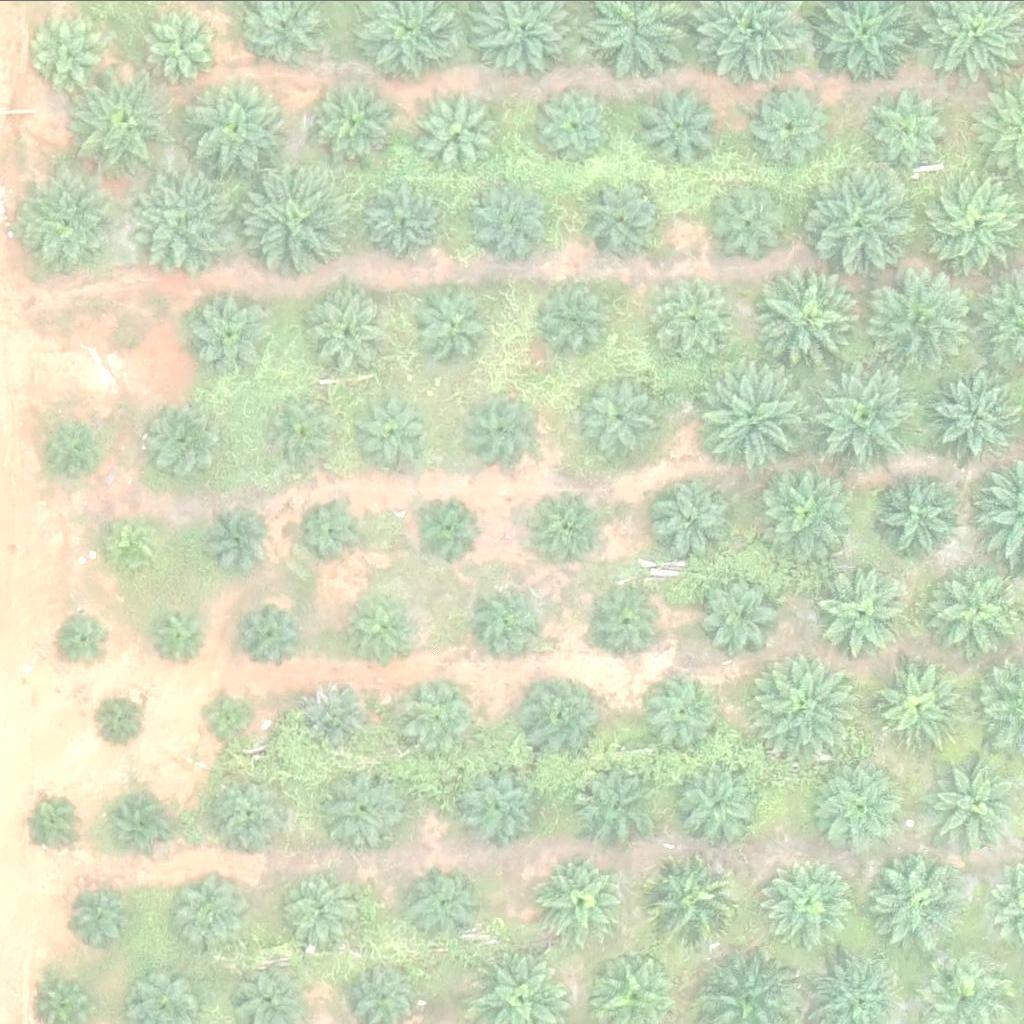Kelapa_Sawit: (131, 158, 245, 271), (238, 152, 352, 265), (863, 262, 976, 375), (696, 361, 809, 474), (809, 361, 922, 474), (803, 165, 916, 277), (756, 264, 869, 376), (18, 170, 119, 270), (69, 72, 170, 172), (756, 459, 857, 559), (753, 652, 854, 752), (189, 72, 289, 172), (811, 758, 911, 858), (647, 848, 747, 948), (762, 854, 862, 954), (871, 850, 971, 950), (578, 367, 667, 455), (318, 763, 406, 851), (518, 668, 606, 756), (458, 759, 546, 847), (650, 271, 738, 359), (877, 466, 965, 554), (695, 571, 783, 659), (821, 567, 909, 655), (934, 757, 1022, 845), (648, 477, 737, 564), (639, 83, 727, 170), (533, 77, 621, 164), (578, 168, 666, 255), (539, 855, 627, 942), (577, 760, 665, 847), (742, 79, 830, 166), (862, 84, 950, 171), (874, 662, 962, 749), (675, 758, 763, 845), (280, 872, 356, 947), (403, 868, 479, 943), (261, 389, 337, 464), (151, 405, 227, 480), (312, 291, 388, 366), (192, 296, 268, 371), (365, 176, 441, 251), (479, 178, 555, 253), (318, 84, 394, 159), (422, 89, 498, 164), (173, 871, 248, 946), (217, 773, 292, 848), (144, 7, 219, 82), (593, 579, 668, 654), (477, 591, 552, 666), (468, 390, 543, 465), (540, 285, 615, 360), (412, 283, 487, 358), (352, 389, 427, 464), (403, 681, 478, 756), (302, 674, 377, 749), (207, 502, 282, 577), (297, 488, 372, 563), (411, 490, 486, 565), (535, 487, 610, 562), (714, 183, 789, 258), (651, 673, 726, 748), (21, 791, 84, 854), (110, 790, 173, 853), (350, 593, 413, 656), (105, 516, 168, 579), (43, 424, 106, 487), (70, 882, 133, 944), (52, 607, 115, 669), (152, 603, 215, 665), (239, 603, 302, 665), (96, 689, 147, 739), (202, 690, 253, 740)
